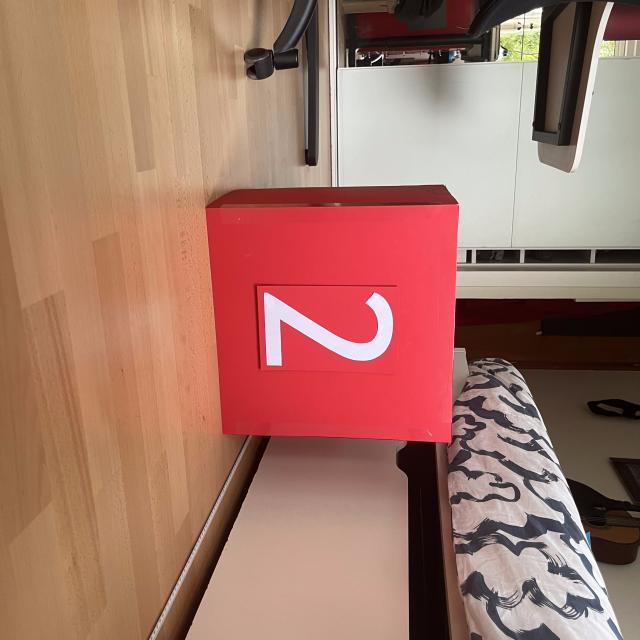box: (200, 181, 462, 445)
